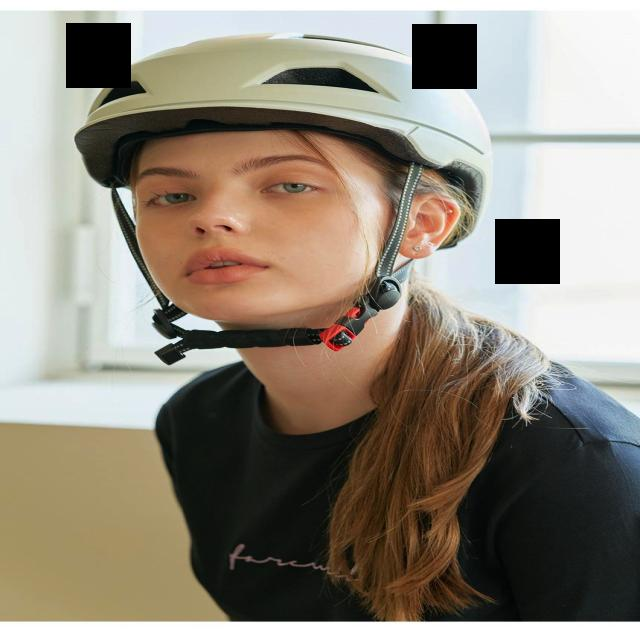Helmet: (77, 32, 500, 338)
